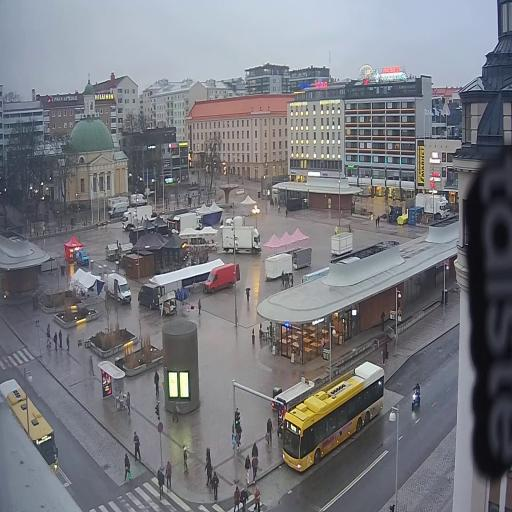bus: (279, 354, 388, 481), (0, 372, 63, 484)
delivery: (201, 260, 241, 300), (220, 224, 263, 254), (104, 268, 132, 310), (122, 204, 154, 234), (172, 208, 205, 236), (414, 193, 446, 215), (107, 200, 129, 221), (130, 187, 150, 207), (75, 246, 93, 268)
two-wheels: (410, 378, 424, 413)
